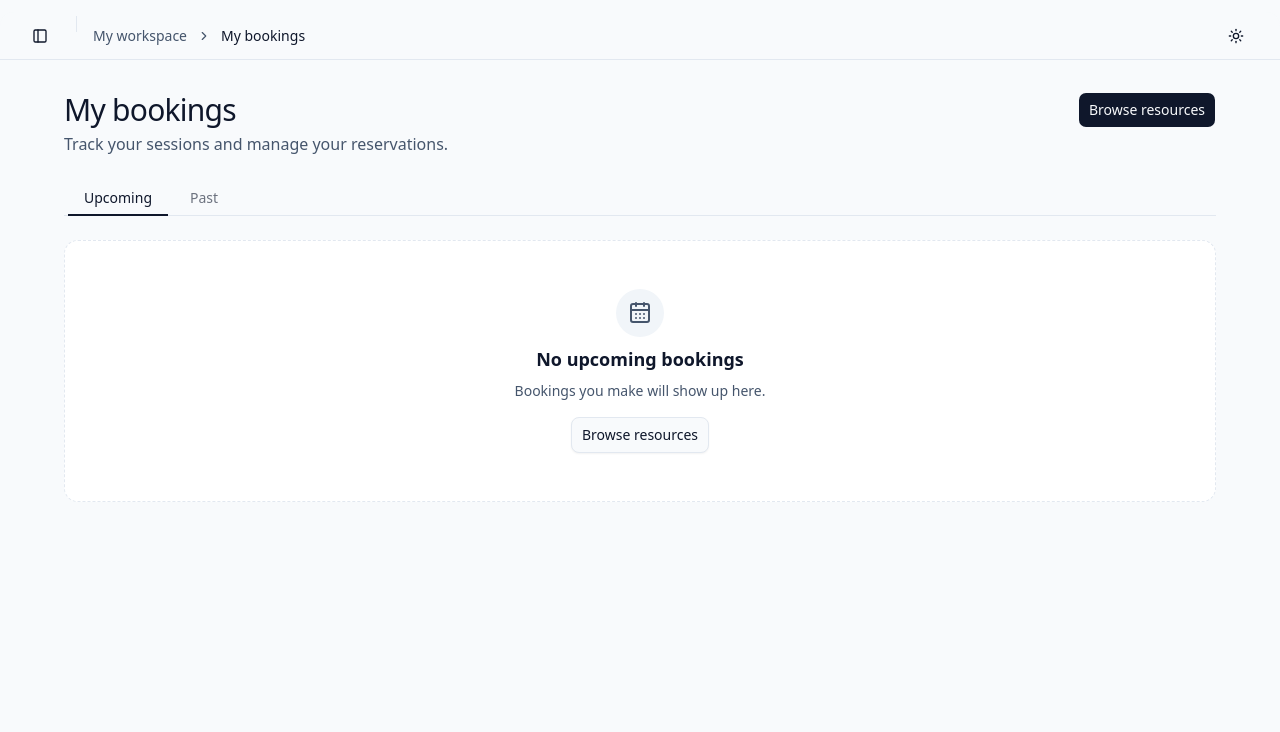
Test: BookingsPage › requests scope=upcoming first and scope=past after switching the tab
Expected: the text "No upcoming bookings" is shown, [536, 345, 744, 373]
Click the tab "Past".
click(204, 198)  # box [173, 184, 235, 212]
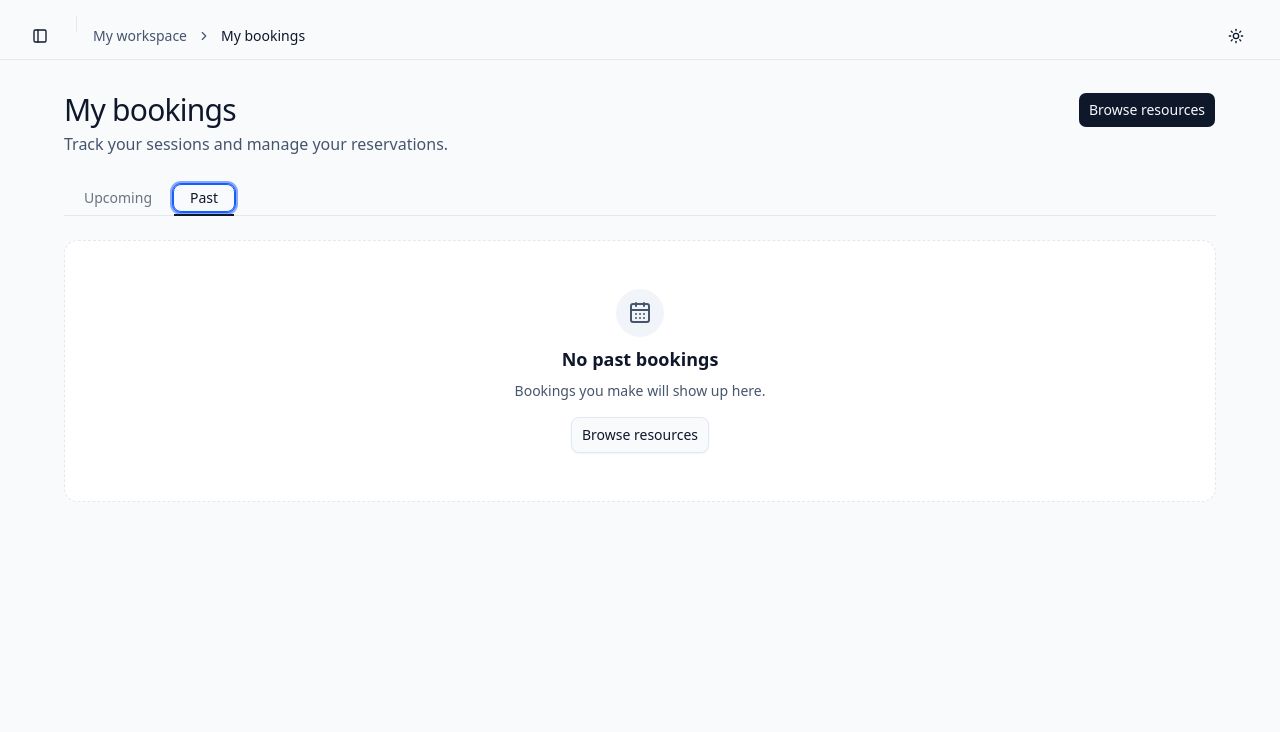
Expected: the text "No past bookings" is shown, [562, 345, 718, 373]
